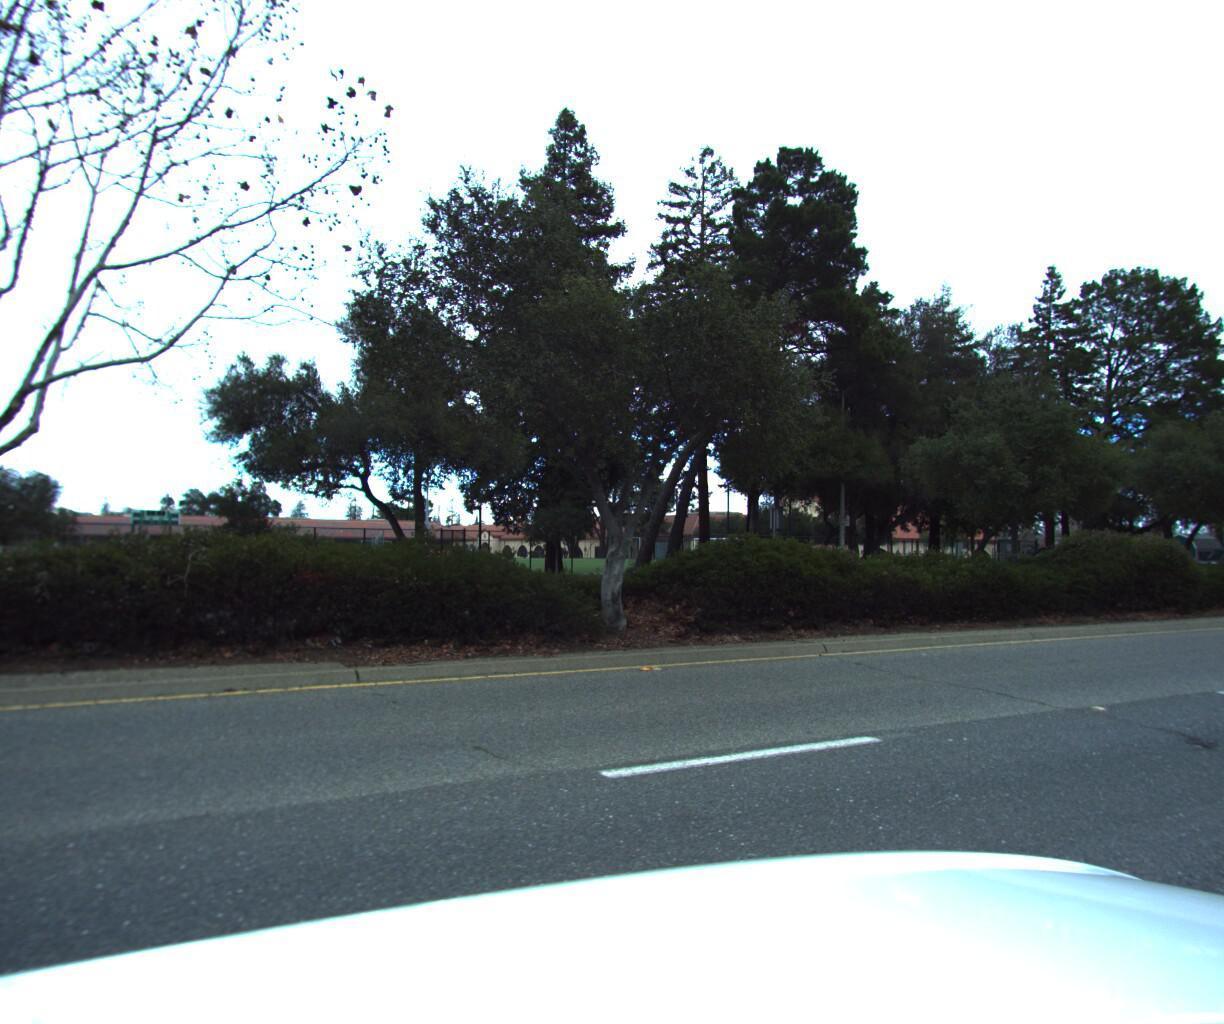car: (1181, 536, 1224, 574)
